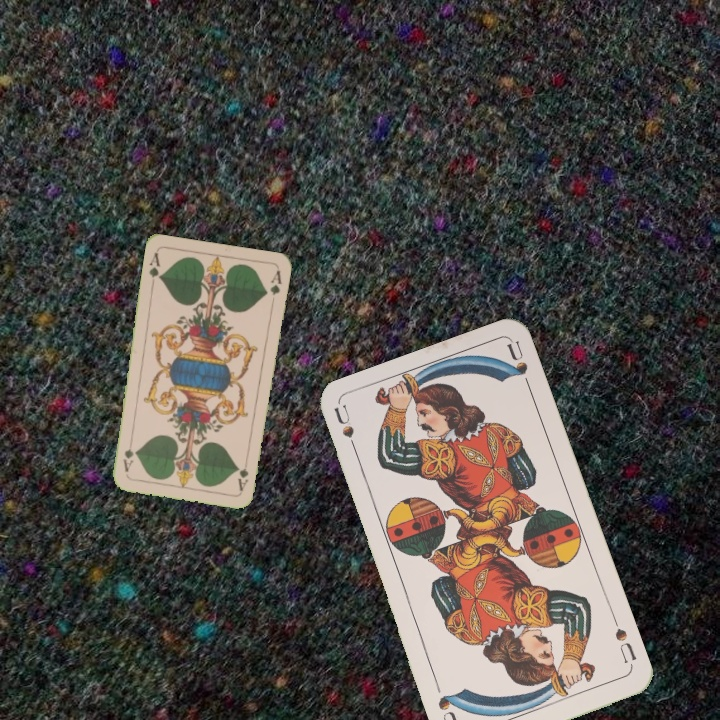GA: (145, 248, 164, 289), (234, 453, 251, 493)
SU: (331, 403, 362, 461), (608, 613, 639, 670)
